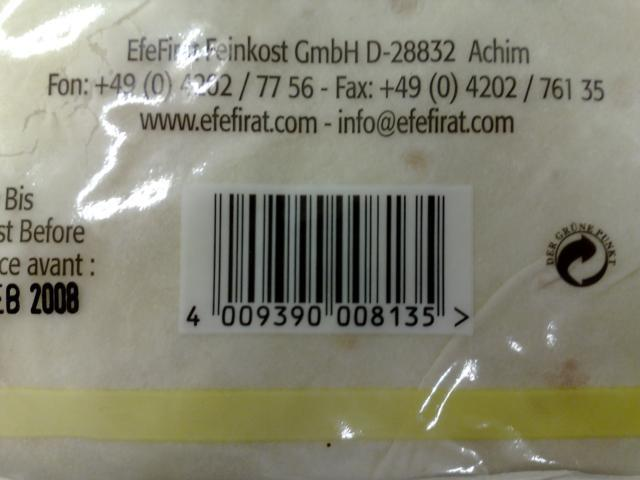Barkod: (209, 194, 445, 304)
